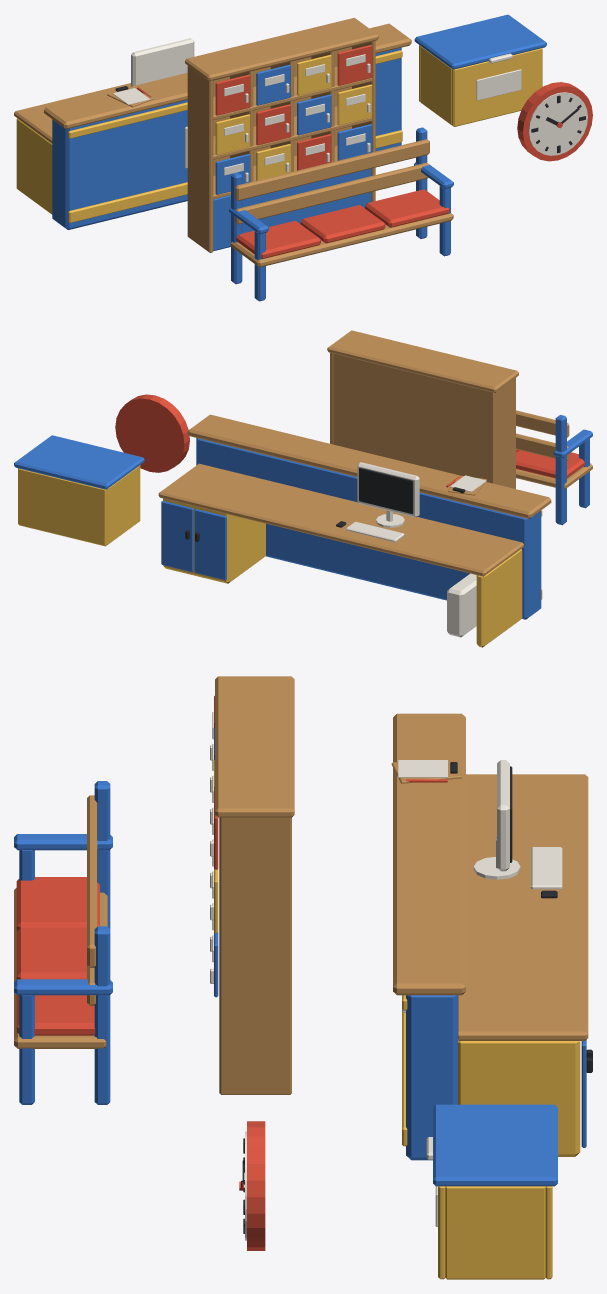
Rendered from school-front-office-set.glb.
3 views of the same model, one above another, from view 1: azimuth 30°, elevation 25°; view 2: azimuth 150°, elevation 25°; view 3: azimuth 270°, elevation 25° (orthographic). The views are drawn at different scales.
Visible parts, largest first — view 1: Counter_Front, Mail_Top, Mail_SideL, Lid, LF_Front, Counter_Ledge, Mail_Base, Bench_BackSlat_High, Bench_BackSlat_Low, Clock_Face, Counter_EndPanel, Computer_Monitor (+35 smaller); view 2: Counter_Front, Mail_Back, Counter_Desk, Counter_Ledge, LF_Back, Mail_Top, Clock_Rim, Lid, Counter_EndPanel, Counter_Pedestal, Mail_SideL, CabinetDoor_R (+12 smaller); view 3: Counter_Desk, Mail_SideR, Counter_Ledge, Mail_Top, Lid, LF_SideR, Counter_Pedestal, Counter_Front, Seat_1, Seat_2, Bench_BackPost_R, Seat_3 (+10 smaller).
Part boxes in pixels (x1,y1,x2,y2): Counter_Front: [52, 47, 401, 229]; Mail_Top: [185, 17, 378, 80]; Mail_SideL: [187, 65, 213, 252]; Lid: [414, 14, 546, 69]; LF_Front: [452, 48, 542, 126]; Counter_Ledge: [44, 23, 411, 129]; Mail_Base: [213, 168, 371, 251]; Bench_BackSlat_High: [235, 139, 429, 200]; Bench_BackSlat_Low: [235, 162, 428, 224]; Clock_Face: [528, 92, 587, 155]; Counter_EndPanel: [16, 118, 52, 214]; Computer_Monitor: [131, 38, 194, 86]; Counter_Front: [196, 438, 541, 619]; Mail_Back: [333, 353, 490, 482]; Counter_Desk: [158, 463, 523, 576]; Counter_Ledge: [188, 414, 551, 518]; LF_Back: [18, 468, 107, 546]; Mail_Top: [327, 330, 518, 392]; Clock_Rim: [115, 394, 189, 472]; Lid: [14, 435, 144, 489]; Counter_EndPanel: [476, 549, 522, 647]; Counter_Pedestal: [163, 498, 265, 583]; Mail_SideL: [491, 378, 515, 488]; CabinetDoor_R: [161, 501, 193, 572]; Counter_Desk: [458, 774, 588, 1040]; Mail_SideR: [219, 817, 291, 1094]; Counter_Ledge: [393, 713, 465, 995]; Mail_Top: [215, 676, 294, 817]; Lid: [433, 1104, 557, 1186]; LF_SideR: [445, 1186, 545, 1279]; Counter_Pedestal: [458, 1040, 580, 1156]; Counter_Front: [406, 995, 457, 1160]; Seat_1: [16, 877, 99, 930]; Seat_2: [16, 927, 86, 979]; Bench_BackPost_R: [94, 926, 110, 1104]; Seat_3: [16, 978, 95, 1035].
Bounding box in the file's own units: 17.66 × 6.1 × 11.12.
